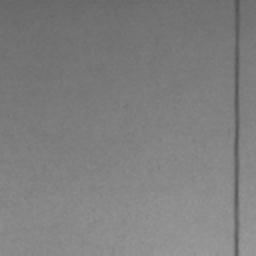Scratches: (233, 0, 240, 256)
